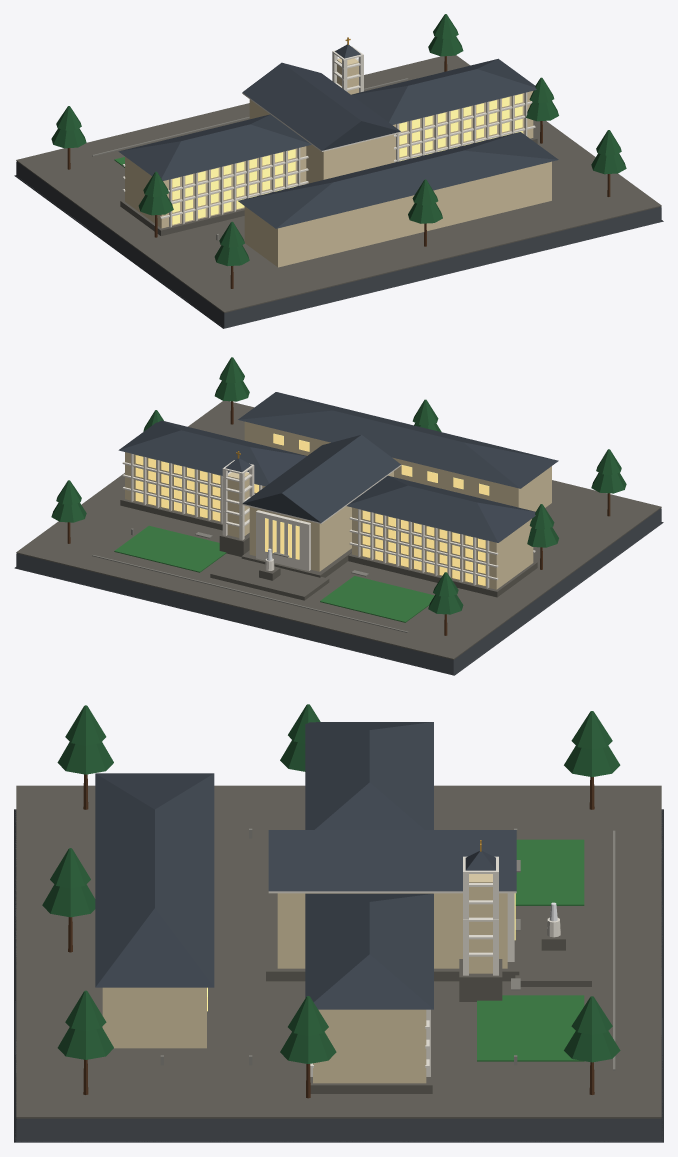
File: lm_38_giao_hoang_hoc_vien.glb
The picture shows the model from 3 angles, top to bottom: view 1: azimuth 30°, elevation 25°; view 2: azimuth 150°, elevation 25°; view 3: azimuth 270°, elevation 25°; orthographic projection. The views are drawn at different scales.
Parts seen in each view (by area): view 1: Foundation_Plinth_Trim, PiusX_Ochre_Walls, PiusX_North_Library_Wing_Roof, Foundation_Skirt, PiusX_Central_Chapel_Gable_Roof, PiusX_Pine_Canopies, PiusX_Academic_Wing_Roof_West, PiusX_Academic_Wing_Roof_East, ToCongVan_BriseSoleil_Louvers, PiusX_Glowing_Windows, PiusX_Stone_Podium_And_Steps, PiusX_Pine_Trunks (+1 smaller); view 2: Foundation_Plinth_Trim, PiusX_Ochre_Walls, Foundation_Skirt, PiusX_North_Library_Wing_Roof, ToCongVan_BriseSoleil_Louvers, PiusX_Central_Chapel_Gable_Roof, PiusX_Glowing_Windows, PiusX_Academic_Wing_Roof_West, PiusX_Stone_Podium_And_Steps, PiusX_Quadrangle_Lawns, PiusX_Academic_Wing_Roof_East, PiusX_Pine_Canopies (+1 smaller); view 3: Foundation_Plinth_Trim, PiusX_North_Library_Wing_Roof, PiusX_Ochre_Walls, Foundation_Skirt, PiusX_Pine_Canopies, PiusX_Academic_Wing_Roof_East, PiusX_Central_Chapel_Gable_Roof, PiusX_Academic_Wing_Roof_West, PiusX_Quadrangle_Lawns, PiusX_Stone_Podium_And_Steps, ToCongVan_BriseSoleil_Louvers, Phase2_Granite_Curb_And_Entry_Steps (+2 smaller).
Part boxes in pixels (x1,y1,x2,y2): Foundation_Plinth_Trim: (16,55,661,312); PiusX_Ochre_Walls: (125,58,551,267); PiusX_North_Library_Wing_Roof: (238,132,558,228); Foundation_Skirt: (14,161,663,328); PiusX_Central_Chapel_Gable_Roof: (242,62,400,150); PiusX_Pine_Canopies: (51,14,626,266); PiusX_Academic_Wing_Roof_West: (118,114,311,180); PiusX_Academic_Wing_Roof_East: (351,58,536,124); ToCongVan_BriseSoleil_Louvers: (122,46,535,227); PiusX_Glowing_Windows: (172,94,522,224); PiusX_Stone_Podium_And_Steps: (120,135,537,235); PiusX_Pine_Trunks: (67,56,610,288); Foundation_Plinth_Trim: (16,401,661,659); PiusX_Ochre_Walls: (125,421,551,589); Foundation_Skirt: (14,508,663,675); PiusX_North_Library_Wing_Roof: (238,392,558,488); ToCongVan_BriseSoleil_Louvers: (122,453,535,588); PiusX_Central_Chapel_Gable_Roof: (242,435,400,522); PiusX_Glowing_Windows: (135,433,489,585); PiusX_Academic_Wing_Roof_West: (347,475,535,542); PiusX_Stone_Podium_And_Steps: (120,497,537,600); PiusX_Quadrangle_Lawns: (114,525,434,622); PiusX_Academic_Wing_Roof_East: (118,420,306,486); PiusX_Pine_Canopies: (51,357,626,614); Foundation_Plinth_Trim: (16,785,661,1118); PiusX_North_Library_Wing_Roof: (95,773,214,987); PiusX_Ochre_Walls: (102,874,507,1083); Foundation_Skirt: (14,809,663,1142); PiusX_Pine_Canopies: (42,704,620,1063); PiusX_Academic_Wing_Roof_East: (305,893,433,1009); PiusX_Central_Chapel_Gable_Roof: (268,830,516,891); PiusX_Academic_Wing_Roof_West: (305,722,433,829); PiusX_Quadrangle_Lawns: (477,839,584,1061); PiusX_Stone_Podium_And_Steps: (266,909,591,1093); ToCongVan_BriseSoleil_Louvers: (310,856,560,1076); Phase2_Granite_Curb_And_Entry_Steps: (160,828,615,1070).
Size of the model in its own units: 103 by 25.5 by 84.74.
